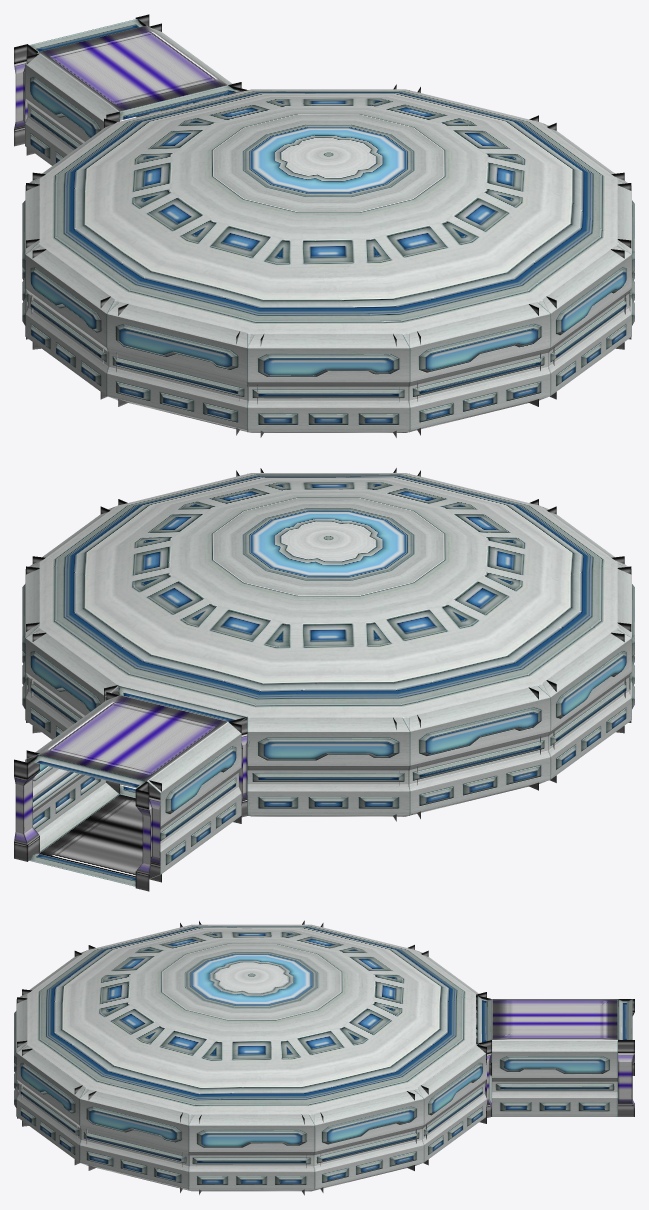
Rendered from sala.obj.
3 renders of one model, top to bottom at view 1: azimuth 30°, elevation 25°; view 2: azimuth 150°, elevation 25°; view 3: azimuth 270°, elevation 25°, orthographic. The views are drawn at different scales.
Visible parts, largest first — view 1: object_10, object_29, object_30, object_27, object_32, object_25, object_12, object_2, object_15, object_14, object_23, object_5 (+1 smaller); view 2: object_10, object_16, object_14, object_32, object_2, object_12, object_17, object_33, object_1, object_9, object_19, object_15 (+5 smaller); view 3: object_10, object_21, object_1, object_23, object_19, object_32, object_25, object_17, object_9, object_15, object_27, object_5 (+3 smaller).
Part boxes in pixels (x1=…): object_10: x1=14, y1=44, x2=617, y2=333; object_29: x1=247, y1=333, x2=409, y2=432; object_30: x1=106, y1=299, x2=254, y2=432; object_27: x1=402, y1=299, x2=550, y2=432; object_32: x1=39, y1=25, x2=227, y2=111; object_25: x1=537, y1=242, x2=631, y2=400; object_12: x1=25, y1=243, x2=119, y2=400; object_2: x1=25, y1=52, x2=119, y2=165; object_15: x1=26, y1=84, x2=631, y2=437; object_14: x1=22, y1=177, x2=40, y2=325; object_23: x1=616, y1=177, x2=634, y2=325; object_5: x1=118, y1=85, x2=243, y2=120; object_10: x1=39, y1=473, x2=617, y2=891; object_16: x1=247, y1=716, x2=409, y2=815; object_14: x1=402, y1=683, x2=550, y2=816; object_32: x1=39, y1=695, x2=227, y2=780; object_2: x1=147, y1=722, x2=241, y2=879; object_12: x1=537, y1=626, x2=631, y2=783; object_17: x1=25, y1=626, x2=119, y2=739; object_33: x1=39, y1=794, x2=142, y2=877; object_1: x1=25, y1=695, x2=119, y2=852; object_9: x1=14, y1=750, x2=39, y2=861; object_19: x1=22, y1=561, x2=40, y2=708; object_15: x1=26, y1=468, x2=631, y2=821; object_10: x1=27, y1=924, x2=634, y2=1114; object_21: x1=188, y1=1114, x2=314, y2=1190; object_1: x1=492, y1=1040, x2=617, y2=1116; object_23: x1=79, y1=1088, x2=194, y2=1191; object_19: x1=309, y1=1088, x2=423, y2=1190; object_32: x1=492, y1=999, x2=617, y2=1039; object_25: x1=16, y1=1044, x2=89, y2=1165; object_17: x1=413, y1=1044, x2=486, y2=1165; object_9: x1=618, y1=1040, x2=634, y2=1116; object_15: x1=17, y1=920, x2=428, y2=1195; object_27: x1=14, y1=993, x2=28, y2=1107; object_5: x1=477, y1=995, x2=491, y2=1044.
Bounding box in the file's own units: 196 × 60.28 × 256.
1 material, 1 textured.
